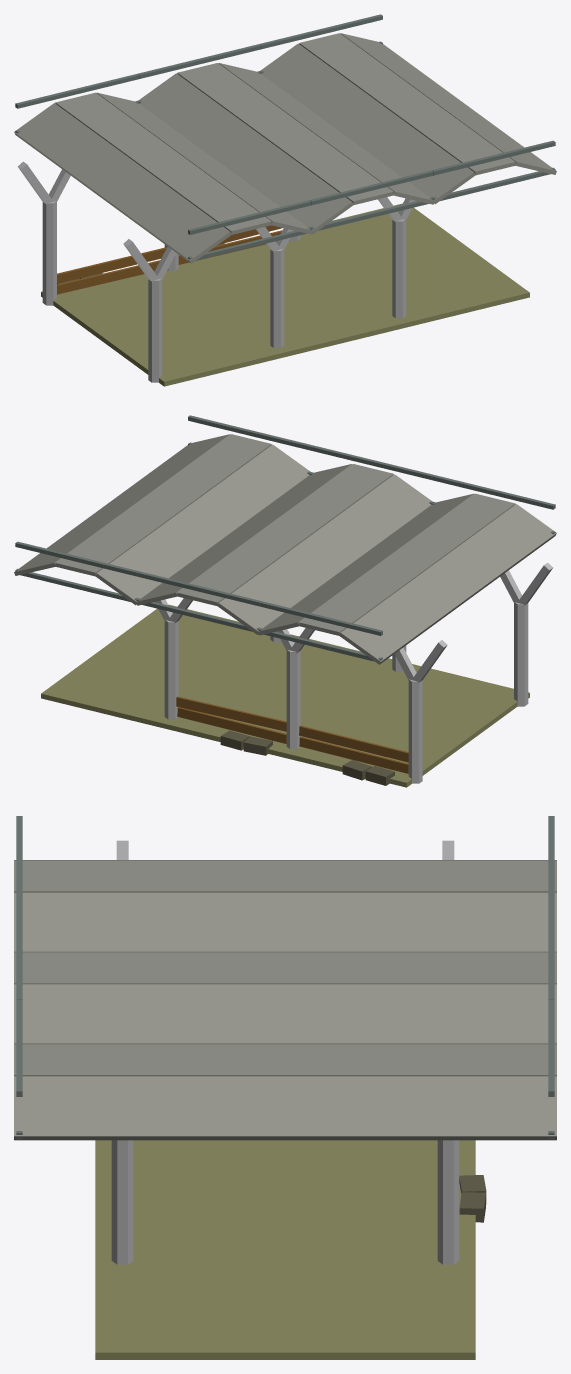
The model's file is SM_MarquesinaBus_v2_Barricada_e0_Sano_LOD1.fbx.
The picture shows the model from 3 angles, top to bottom: view 1: azimuth 30°, elevation 25°; view 2: azimuth 150°, elevation 25°; view 3: azimuth 270°, elevation 25°; orthographic projection. The views are drawn at different scales.
Visible parts, largest first — view 1: SM_marquesina_bus_v8_LOD1; view 2: SM_marquesina_bus_v8_LOD1; view 3: SM_marquesina_bus_v8_LOD1.
Part boxes in pixels (bbox=[...]): SM_marquesina_bus_v8_LOD1: bbox=[14, 14, 556, 386]; SM_marquesina_bus_v8_LOD1: bbox=[14, 415, 556, 787]; SM_marquesina_bus_v8_LOD1: bbox=[14, 816, 556, 1359].
Bounding box in the file's own units: 13.01 × 5.46 × 10.
